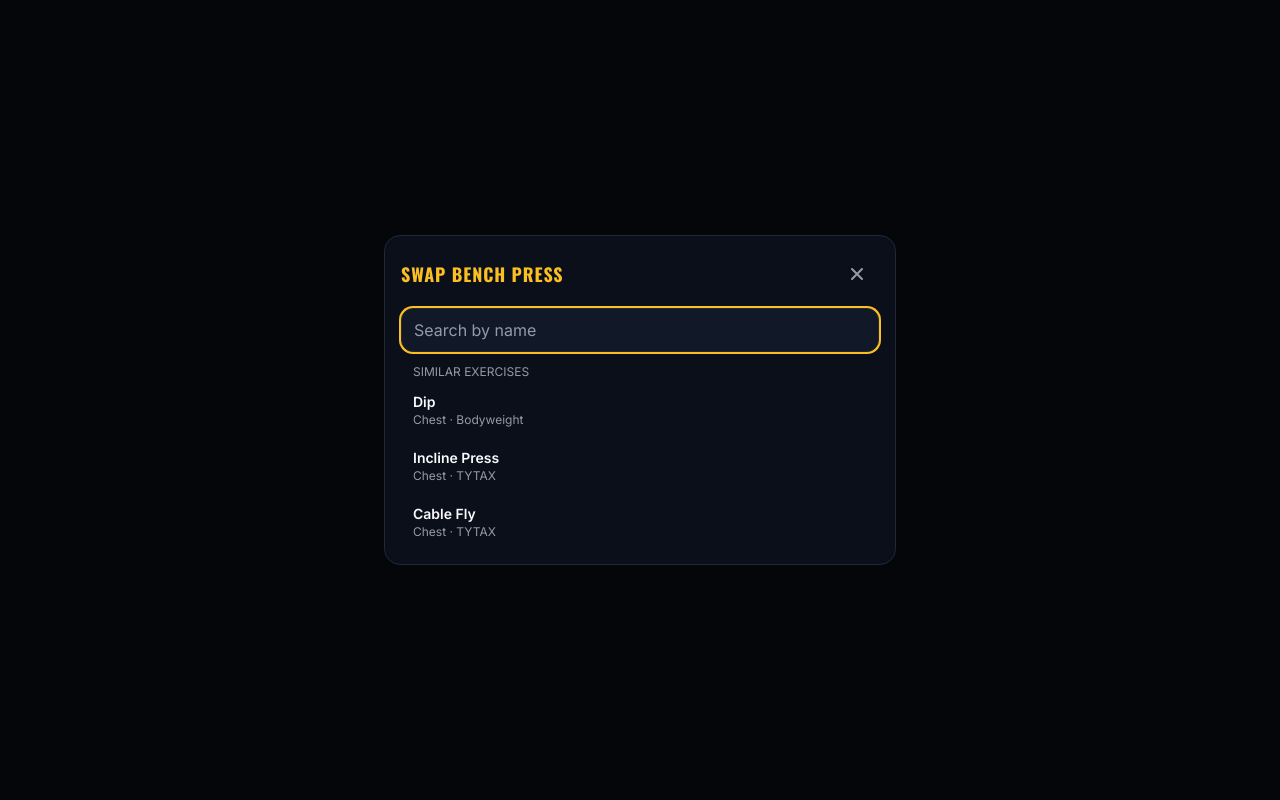
Test: SwapSheet › more than 2 typed chars switch to name search
In the search field with test id "swap-search": (640, 330) top-left (401, 308), bottom-right (879, 352), type "sq"
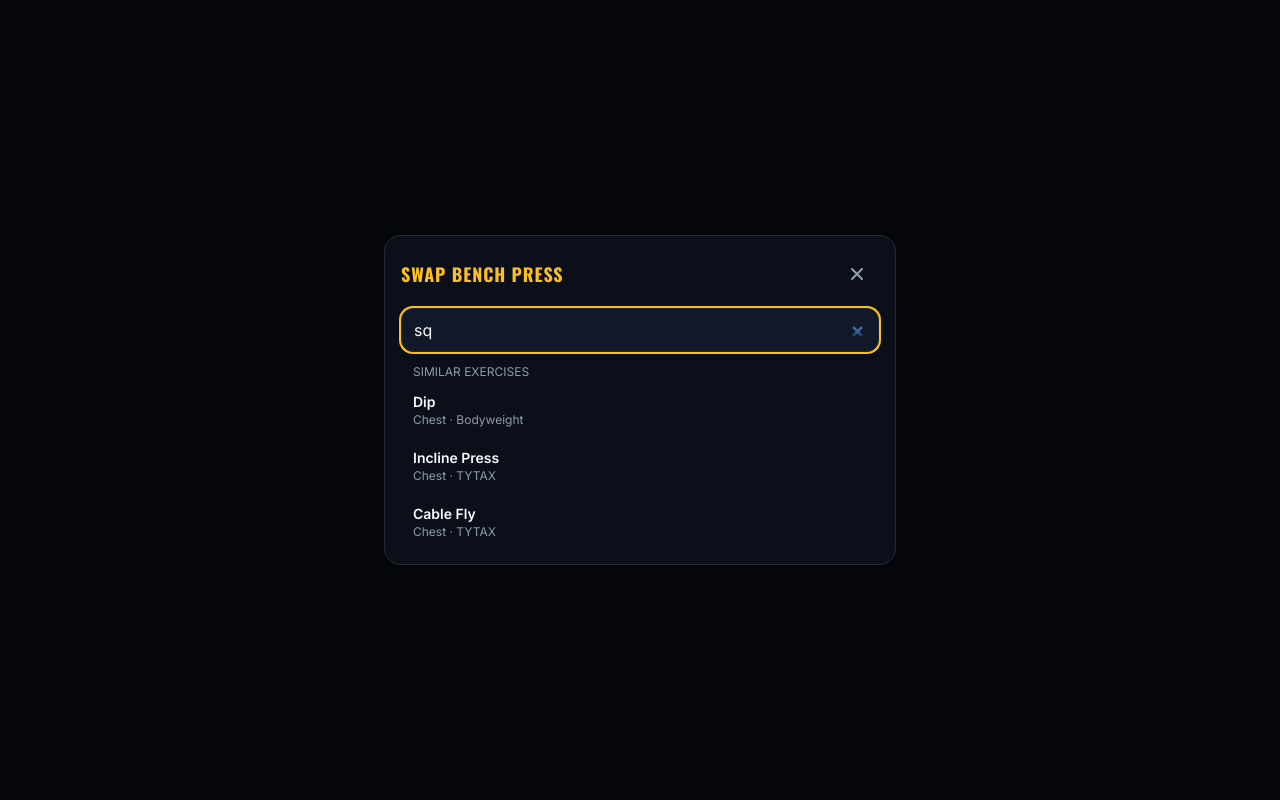
Replace the text in the search field with test id "swap-search" with "squ": (640, 330) top-left (401, 308), bottom-right (879, 352)
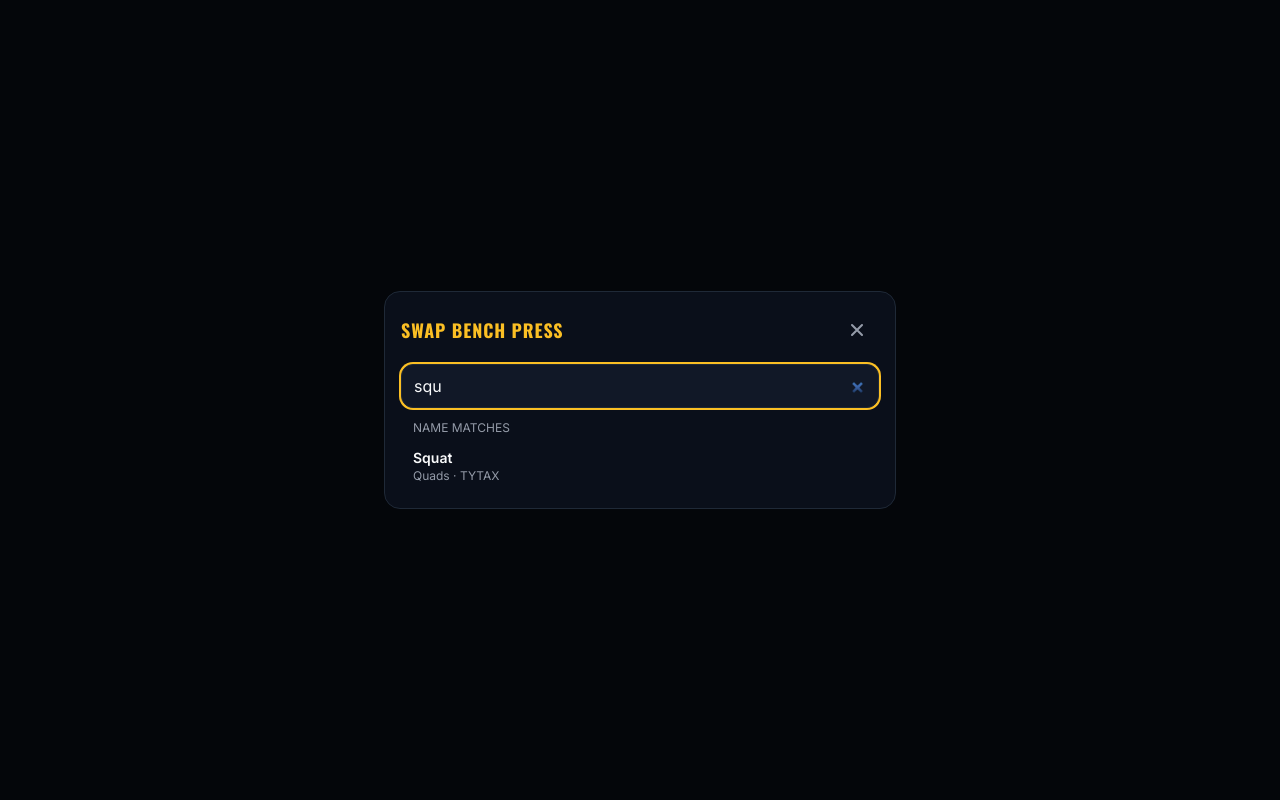
Check: the heading "Name matches" is shown, box top-left (413, 420), bottom-right (510, 435)
